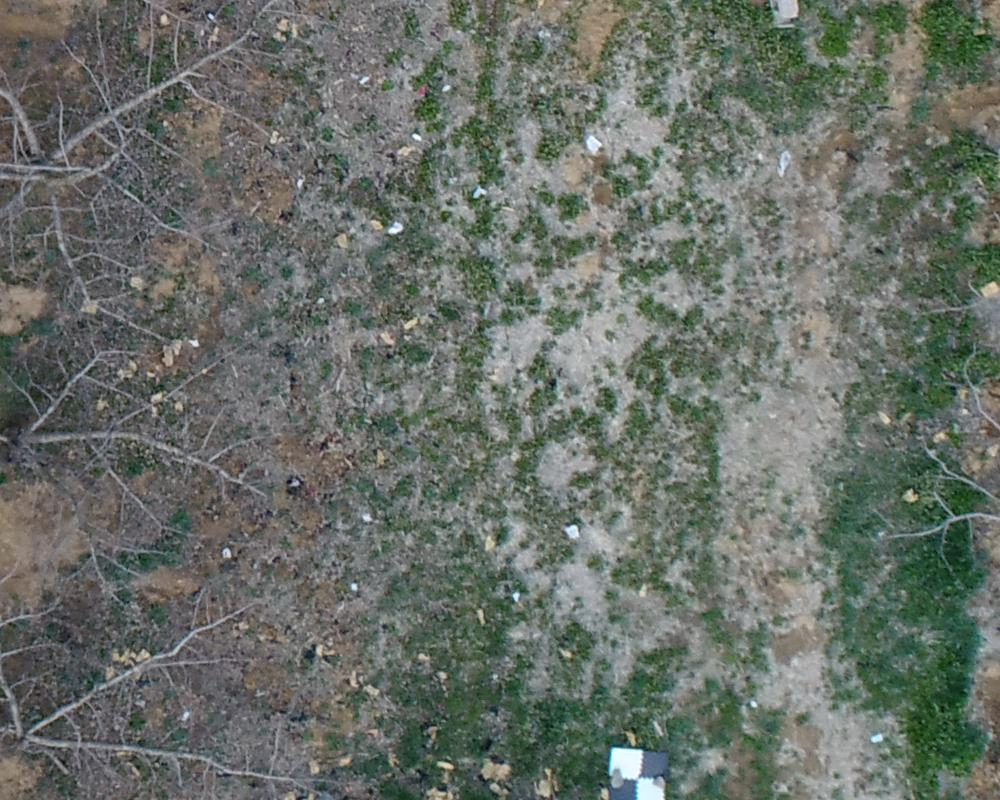apple: (10, 10, 294, 347), (10, 544, 335, 790), (10, 327, 278, 572)
